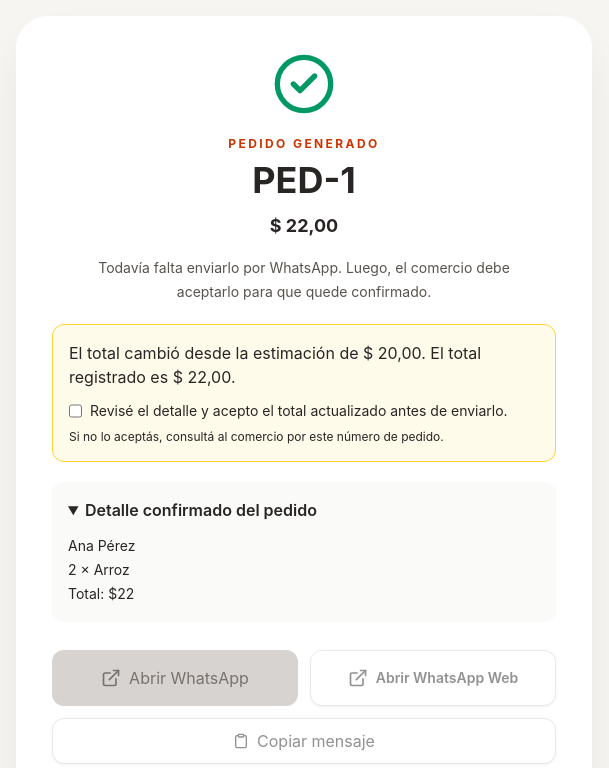
temporary order confirmation recovery › requires review before sharing a total different from the original quote
The width and height of the screenshot is (609, 768).
expect the message shows "El total cambió": met, box [69,343,363,363]
expect the button "Abrir WhatsApp" is disabled: met, box [52,650,298,706]
Click the checkbox at point(76, 411), box [69,401,82,421]
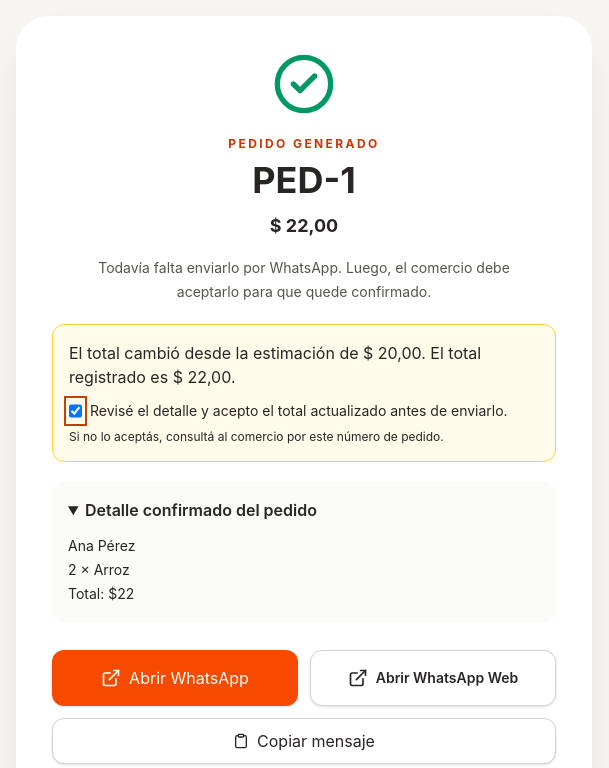
expect the button "Copiar mensaje" is enabled: met, box [52,718,556,764]
